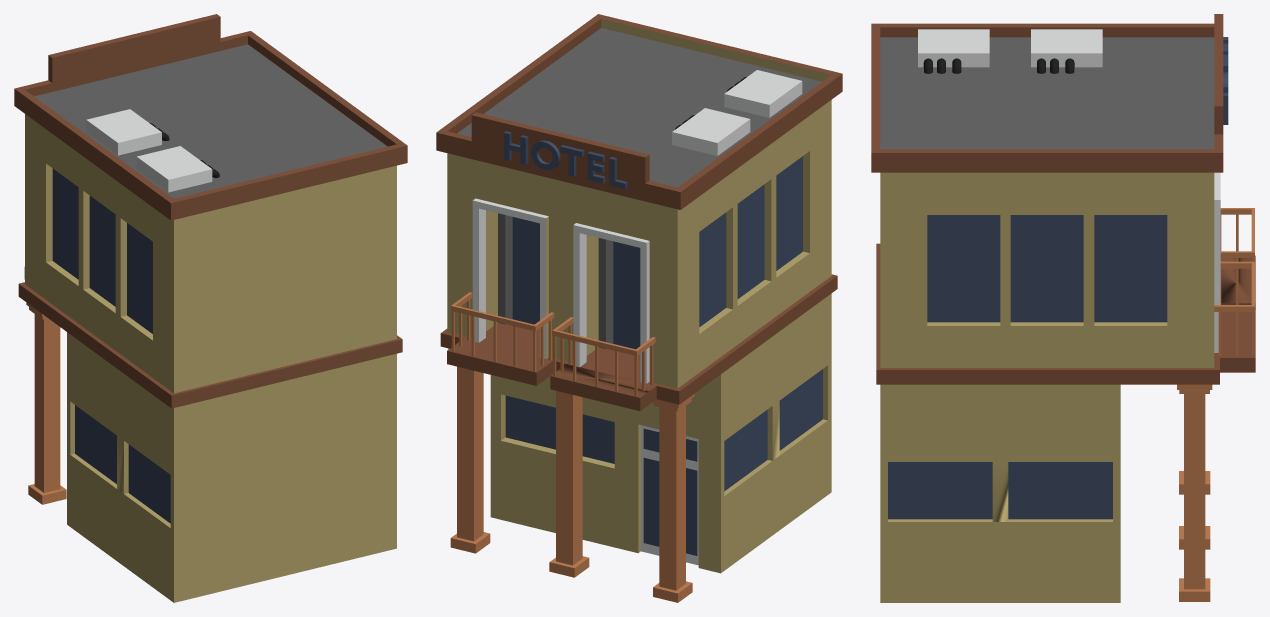
The model's file is hotel.fbx.
3 renders of one model, left to right at view 1: azimuth 30°, elevation 25°; view 2: azimuth 150°, elevation 25°; view 3: azimuth 270°, elevation 25°, orthographic. The views are drawn at different scales.
Visible parts, largest first — view 1: hotel; view 2: hotel; view 3: hotel.
Part boxes in pixels (box(x1,y1,x2,y2)): hotel: box(14, 14, 407, 602); hotel: box(436, 14, 842, 602); hotel: box(871, 14, 1255, 602).
Size of the model in its own units: 713 by 1236 by 893.
